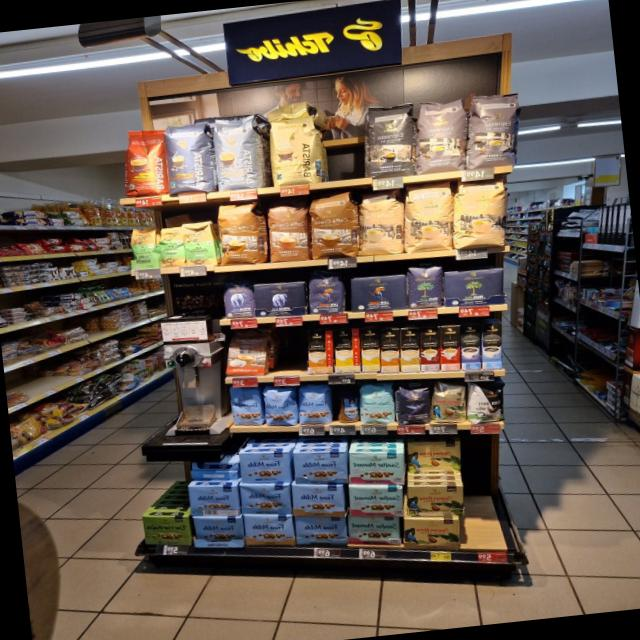AB Bohne: (216, 279, 257, 318)
AB Gemahlen: (176, 218, 219, 267), (251, 281, 308, 317)
Athiopien Bohne: (125, 226, 159, 271)
BM Bohne: (403, 263, 445, 309)
BM Gemahlen: (441, 266, 506, 307)
BW Bohne: (466, 381, 507, 424)
Barista CB: (264, 113, 324, 188)
Barista CC: (206, 114, 270, 192)
Barista Espresso: (161, 120, 216, 194)
Barista Kolumbien: (117, 126, 169, 197)
C Fino Bohne: (394, 385, 432, 424)
CC Mild: (452, 178, 509, 249), (401, 181, 455, 252), (354, 190, 405, 259)
CC Vollmundig: (224, 327, 267, 375)
CC Vollmundig 36 Pads: (303, 190, 359, 261), (212, 199, 270, 266), (259, 198, 313, 264)
Colombia BB Bohne: (431, 383, 468, 422)
Colombia BB Gemahlen: (405, 441, 463, 473), (403, 517, 459, 550), (407, 485, 465, 516)
Empty Shelf: (310, 106, 367, 181), (269, 325, 306, 375), (137, 482, 188, 515)
Espresso Aromatisch: (465, 90, 520, 171), (413, 95, 466, 177)
Espresso Kraftig: (363, 102, 415, 178)
FM Bohne: (295, 383, 332, 424), (260, 387, 298, 426), (228, 387, 264, 426)
FM Gemahlen: (290, 452, 347, 484), (289, 484, 346, 516), (190, 516, 247, 548), (240, 514, 296, 546), (236, 451, 291, 483), (186, 485, 241, 517), (238, 484, 293, 514), (293, 516, 347, 546)
FM Instant: (332, 390, 360, 422)
Herzhatfe Mundig: (141, 516, 193, 545)
LG Bohne: (306, 272, 347, 315)
LG Gemahlen: (347, 273, 408, 313)
SM Bohne: (358, 382, 396, 424)
SM Gemahlen: (347, 485, 404, 518), (347, 453, 405, 485), (347, 516, 400, 545)
Simo CCMild: (332, 327, 360, 372)
Simo CCVollmundig: (307, 330, 333, 373)
Simo CCVollmundig bigpack: (379, 328, 399, 373)
Simo Decaff: (399, 328, 421, 372), (359, 325, 379, 372)
Simo Es Brazil: (439, 325, 461, 370)
Simo Es Caramel: (419, 326, 440, 372)
Simo Es Kraft: (460, 323, 481, 369)
Simo Es Vanilla: (481, 323, 502, 370)
